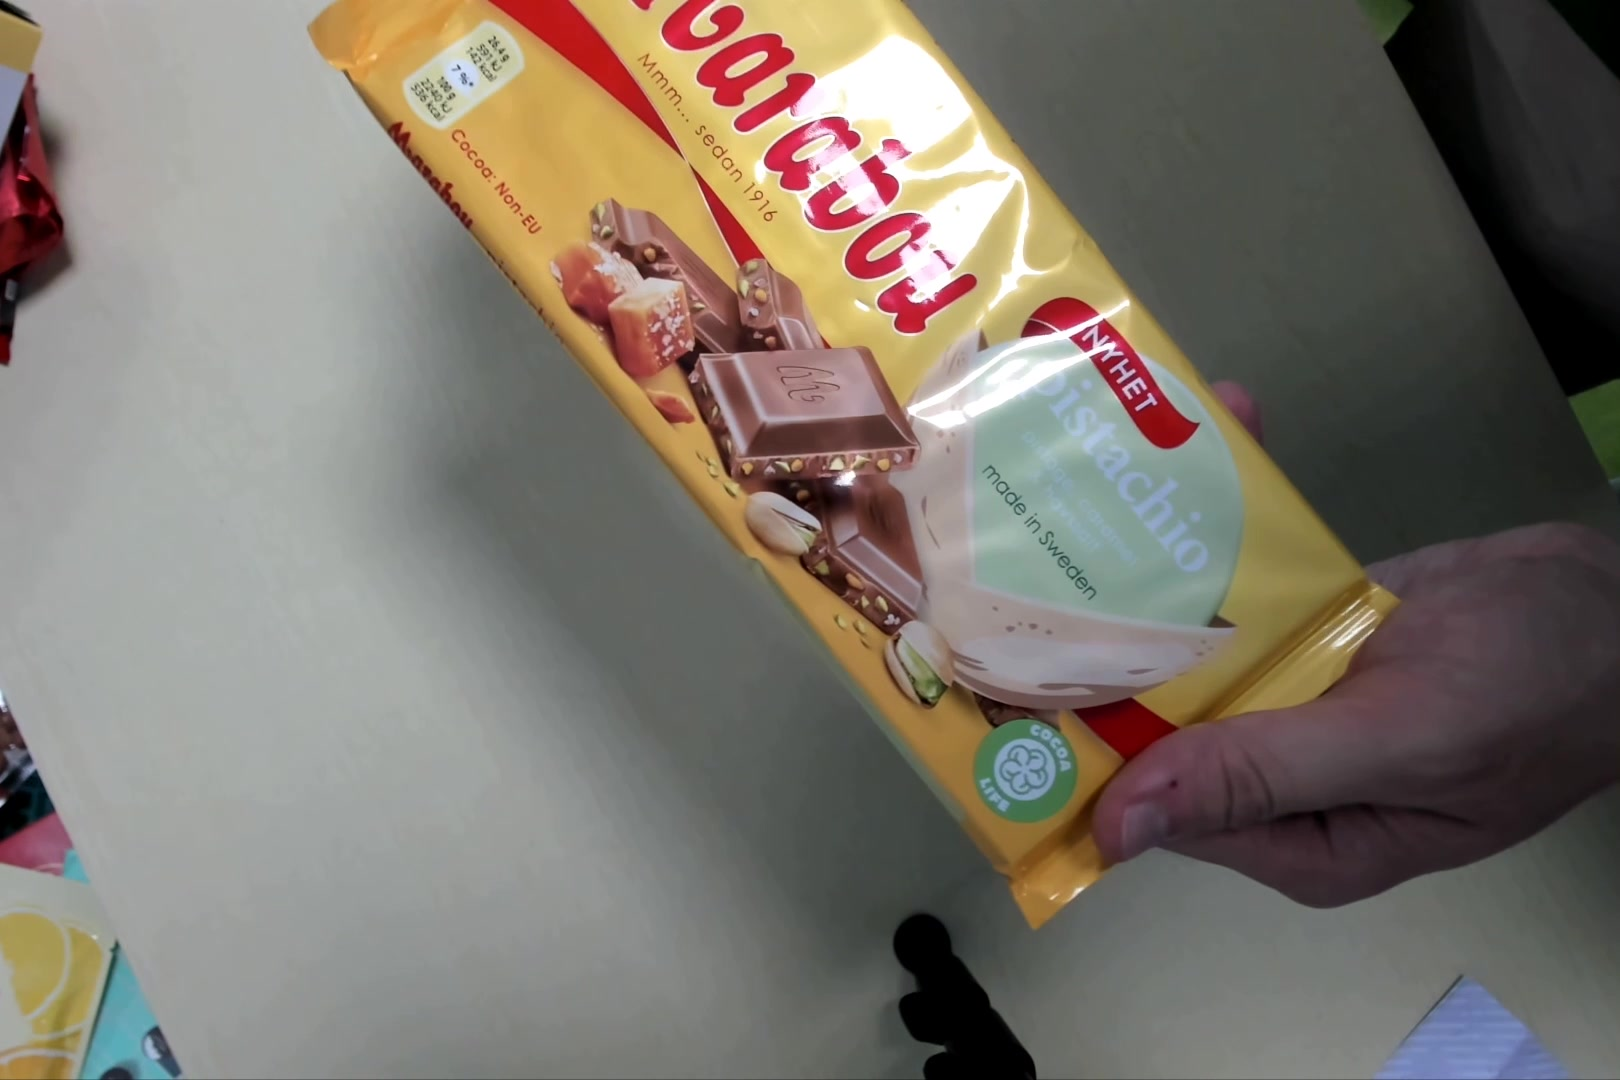SweetsChocolatesOthers_100-199g_NonHalal_NonHealthy: (323, 8, 1383, 928)
